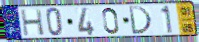0: (45, 7, 65, 38), (101, 7, 120, 35)
1: (160, 5, 174, 34)
4: (77, 6, 96, 37)
D: (127, 5, 153, 36)
H: (19, 8, 46, 37)
